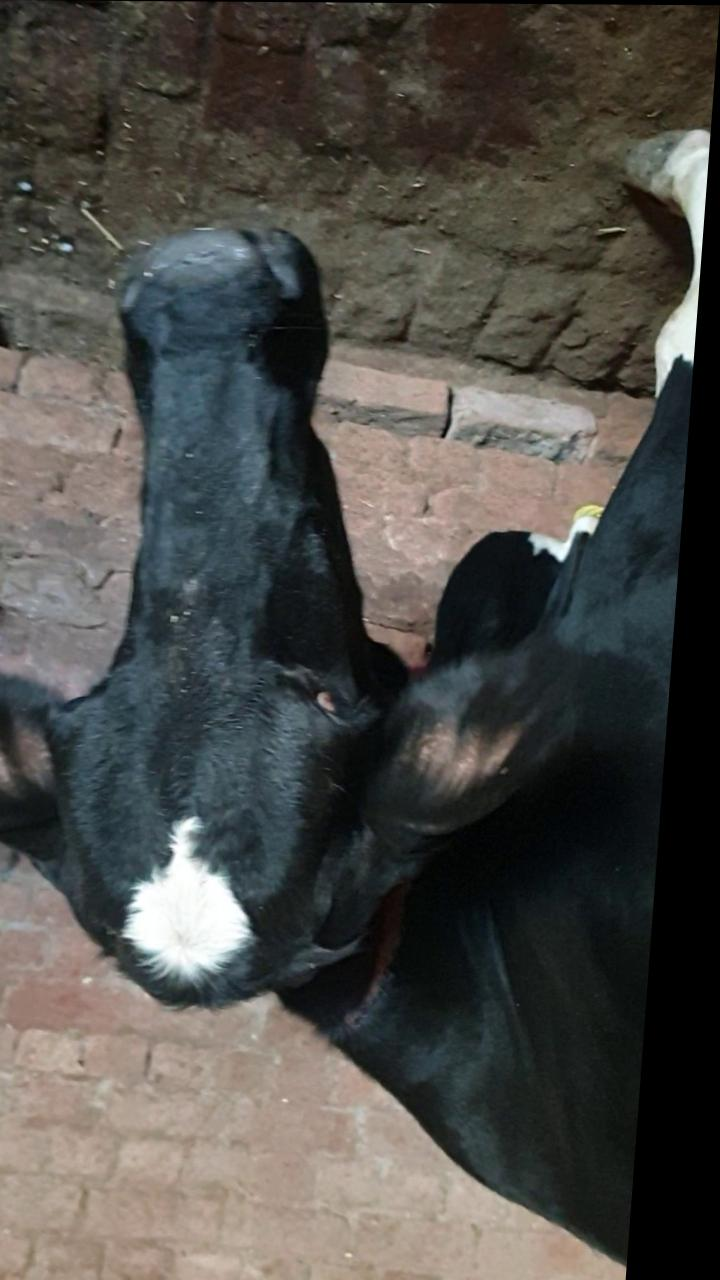cows: (50, 219, 444, 1051)
